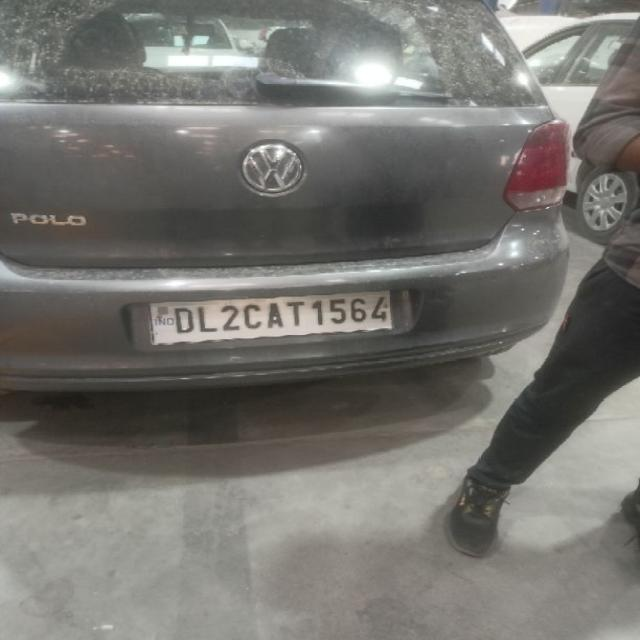license_plate: (143, 288, 407, 347)
